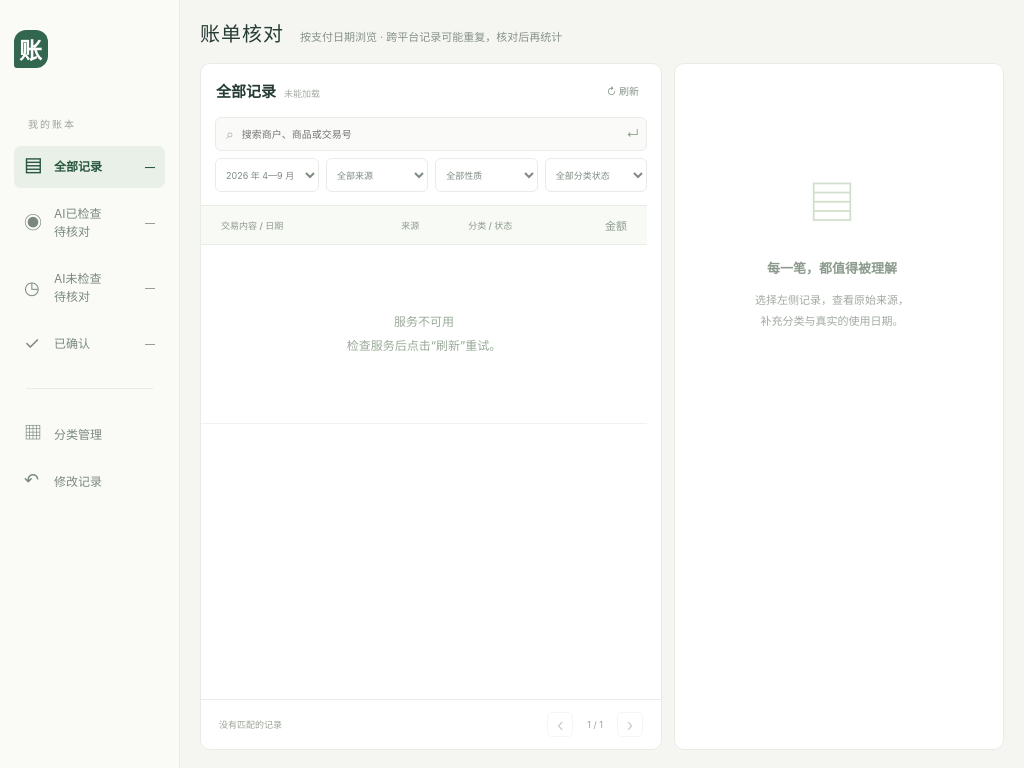
Test case: retries initialization after a local service failure
The image size is (1024, 768).
Check: the message shows "服务不可用", box [394,314,454,329]
Click the button "↻ 刷新" at (623, 90), box [600,76,646,105]
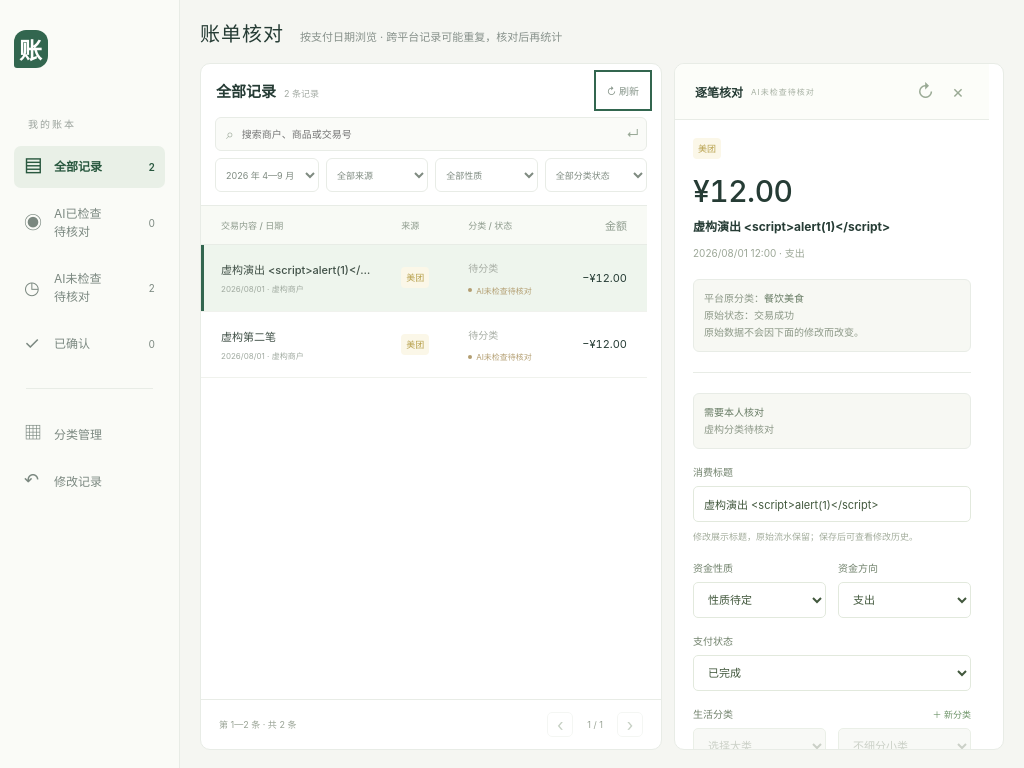
Check: the dropdown labelled "资金性质" is shown, box [693,582,826,618]
